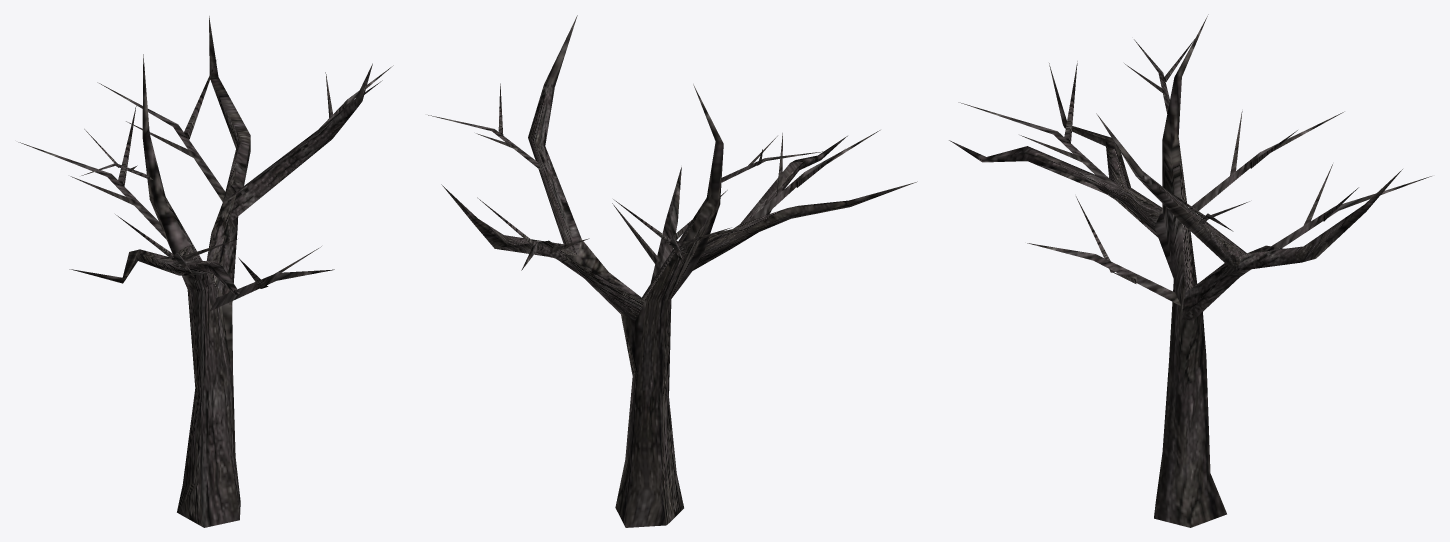
The model's file is Tree03.glb.
3 renders of one model, left to right at view 1: azimuth 30°, elevation 25°; view 2: azimuth 150°, elevation 25°; view 3: azimuth 270°, elevation 25°, orthographic. The views are drawn at different scales.
Visible parts, largest first — view 1: Tree03; view 2: Tree03; view 3: Tree03.
Boxes of the visible parts, <box> form: Tree03: <box>18,16,393,527</box>; Tree03: <box>428,15,917,527</box>; Tree03: <box>949,14,1431,527</box>.
Bounding box in the file's own units: 5.05 × 5.38 × 5.05.
Materials: 1 (1 with a texture image).
